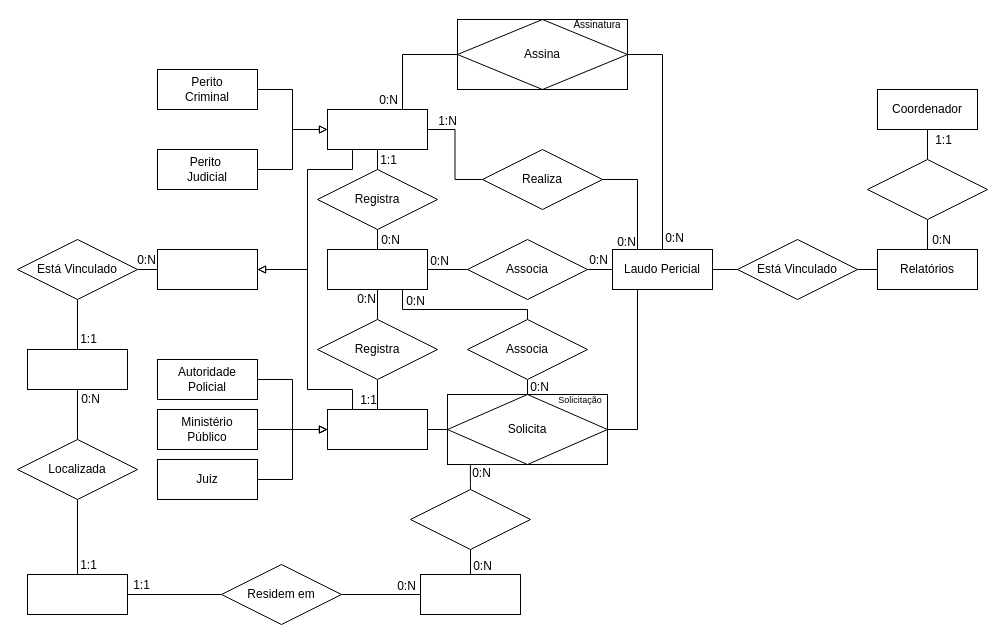
Image size: 1005x642. Some labels were removed from this diagram. Here are the shapes that lost their labels. From the top down, the centre of each, then its label:
pixel 377 129: Perito
pixel 927 189: Gera
pixel 207 269: Profissional
pixel 377 269: Vestígios
pixel 77 369: Instituição
pixel 377 429: Solicitante
pixel 470 519: Possui
pixel 77 594: Endereço
pixel 470 594: Pessoas Físicas
